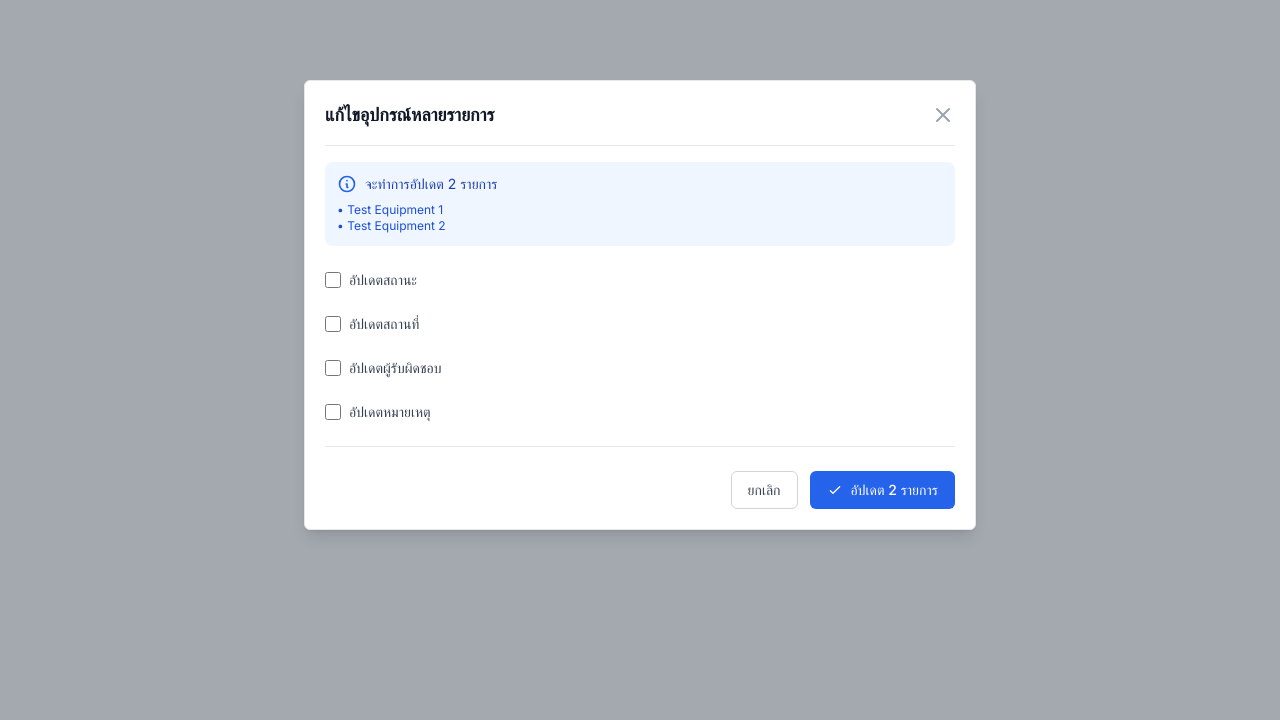
Test case: Bulk Operations › BulkEditModal › enables form fields when checkboxes are checked
Click the checkbox labelled "อัปเดตสถานะ".
click(333, 280)  # box x1=325 y1=272 x2=341 y2=288
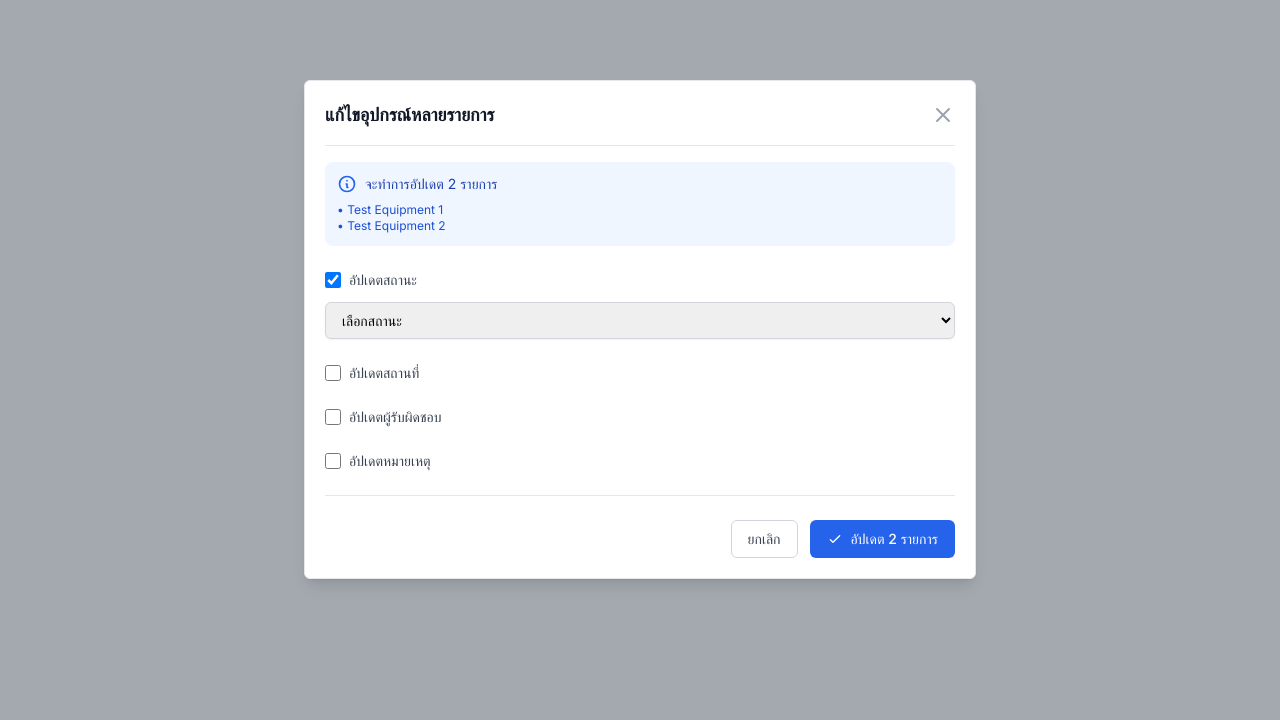
expect the dropdown is shown: met, box x1=325 y1=302 x2=955 y2=339
